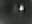person: (20, 5, 26, 16)
